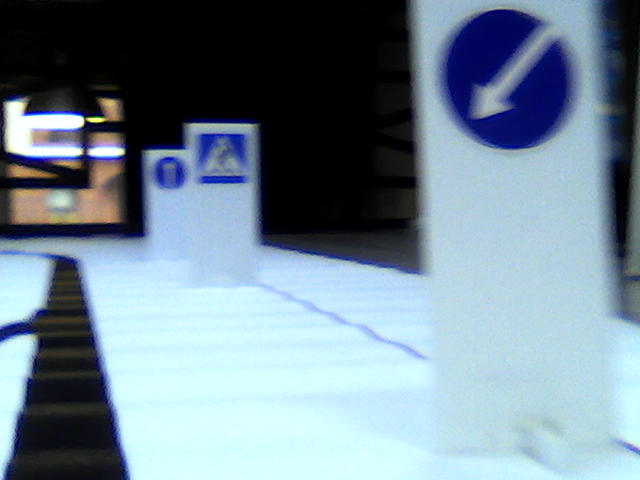pesh: (199, 134, 247, 183)
prep: (437, 5, 583, 152)
